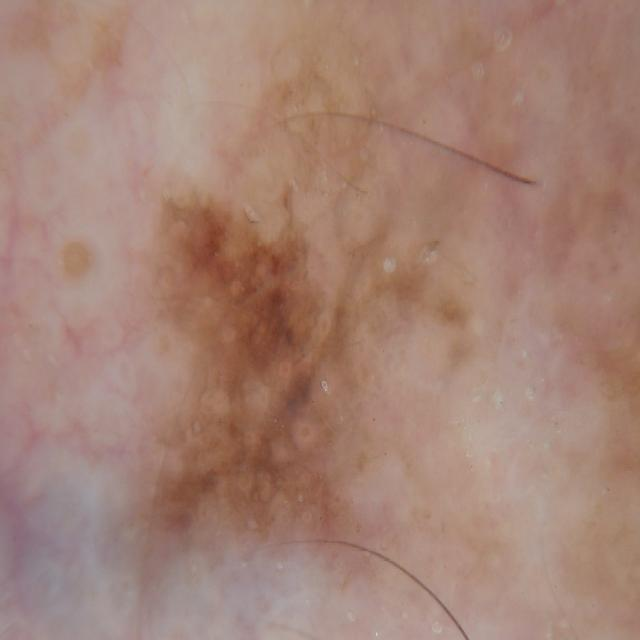Melanoma: (123, 162, 425, 563)
